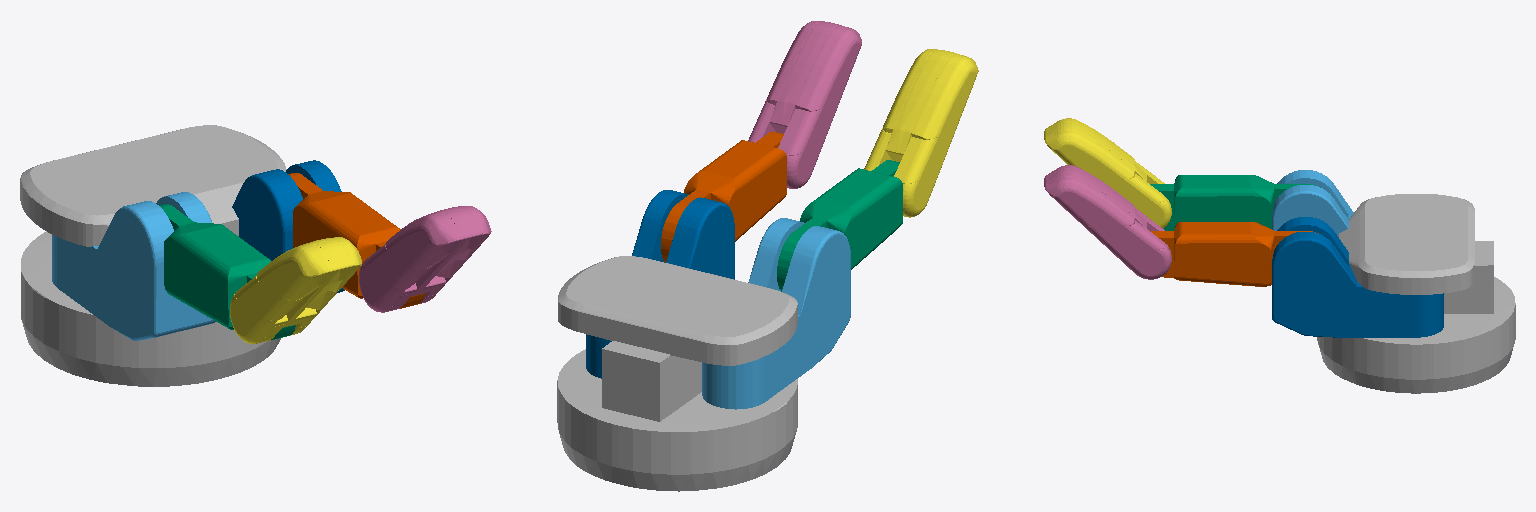
robot.urdf — bhand:
<?xml version="1.0" ?>
<!-- source: https://github.com/RobotnikAutomation/barrett_hand_common/tree/kinetic-devel/barrett_hand_description -->
<!-- =================================================================================== -->
<!-- |    This document was autogenerated by xacro from bh_alone.urdf.xacro            | -->
<!-- |    EDITING THIS FILE BY HAND IS NOT RECOMMENDED                                 | -->
<!-- =================================================================================== -->
<robot name="bhand">
    <!-- HAND WORLD_LINK (RED) -->
    <link name="bh_base_link">
        <inertial>
            <mass value="3.0"/>
            <origin xyz="0 0 0"/>
            <inertia ixx="1.0" ixy="0.0" ixz="0.0" iyy="1.0" iyz="0.0" izz="1.0"/>
        </inertial>
        <visual>
            <origin rpy="0 0 0" xyz="0 0 0"/>
            <geometry>
                <mesh filename="./meshes/palm_282.dae_vhacd.obj"/>
            </geometry>
            <material name="Grey">
                <color rgba="0.75 0.75 0.75 1.0"/>
            </material>
        </visual>
        <collision>
            <origin rpy="0 0 0 " xyz="0 0 0"/>
            <geometry>
                <mesh filename="./meshes/palm_282.dae_vhacd.obj"/>
            </geometry>
            <contact_coefficients kd="1.0" kp="1000.0" mu="1000"/>
        </collision>
    </link>
    
    <!-- finger 1 -->
    <!-- finger 11 link -->
    <link name="bh_finger_11_link">
        <inertial>
            <mass value="0.1"/>
            <origin rpy="0 0 0" xyz="-0.046 0 0"/>
            <inertia ixx="0.01" ixy="0" ixz="0" iyy="0.01" iyz="0" izz="0.01"/>
        </inertial>
        <visual>
            <origin rpy="0 0 0" xyz="0 0 0"/>
            <geometry>
                <mesh filename="./meshes/knuckle.dae_vhacd.obj"/>
            </geometry>
            <material name="Green"/>
        </visual>
        <collision>
            <origin rpy="0 0 0" xyz="0 0 0"/>
            <geometry>
                <mesh filename="./meshes/knuckle.dae_vhacd.obj"/>
            </geometry>
        </collision>
    </link>
    <!-- joint between BH_palm_link and BH_finger_11_link -->
    <joint name="bh_j11_joint" type="revolute">
        <parent link="bh_base_link"/>
        <child link="bh_finger_11_link"/>
        <origin rpy="0 0 1.5708" xyz="-0.025 0 0.0252"/>
        <axis xyz="0 0 -1"/>
        <limit effort="30.0" lower="0" upper="3.1416" velocity="2.0"/>
        <dynamics damping="100.0" friction="1.0"/>
    </joint>
    <transmission name="bh_j11_transmission">
        <type>transmission_interface/SimpleTransmission</type>
        <joint name="bh_j11_joint">
            <hardwareInterface>PositionJointInterface</hardwareInterface>
        </joint>
        <actuator name="bh_j11">
            <hardwareInterface>PositionJointInterface</hardwareInterface>
            <mechanicalReduction>1</mechanicalReduction>
            <motorTorqueConstant>1</motorTorqueConstant>
        </actuator>
    </transmission>
    <!-- finger 12 link -->
    <link name="bh_finger_12_link">
        <inertial>
            <mass value="0.1"/>
            <origin rpy="0 0 0" xyz="0 0 0"/>
            <inertia ixx="0.01" ixy="0" ixz="0" iyy="0.01" iyz="0" izz="0.01"/>
        </inertial>
        <visual>
            <origin rpy="0 0 0" xyz="0 0 0"/>
            <geometry>
                <mesh filename="./meshes/finger.dae_vhacd.obj"/>
            </geometry>
            <material name="Blue"/>
        </visual>
        <collision>
            <origin rpy="0 0 0" xyz="0 0 0"/>
            <geometry>
                <mesh filename="./meshes/finger.dae_vhacd.obj"/>
            </geometry>
            <contact_coefficients kd="1.0" kp="1000.0" mu="1000"/>
        </collision>
    </link>
    <!-- joint between BH_finger_11_link and BH_finger_12_link -->
    <joint name="bh_j12_joint" type="revolute">
        <parent link="bh_finger_11_link"/>
        <child link="bh_finger_12_link"/>
        <origin rpy="1.5708 0 0" xyz="-0.05 0 0.0339"/>
        <axis xyz="0 0 -1"/>
        <limit effort="30.0" lower="0.0" upper="2.44" velocity="2.0"/>
        <dynamics damping="100.0" friction="1.0"/>
    </joint>
    <transmission name="bh_j12_transmission">
        <type>transmission_interface/SimpleTransmission</type>
        <joint name="bh_j12_joint">
            <hardwareInterface>PositionJointInterface</hardwareInterface>
        </joint>
        <actuator name="bh_j12">
            <hardwareInterface>PositionJointInterface</hardwareInterface>
            <mechanicalReduction>1</mechanicalReduction>
            <motorTorqueConstant>1</motorTorqueConstant>
        </actuator>
    </transmission>
    <!-- finger 13 link -->
    <link name="bh_finger_13_link">
        <inertial>
            <mass value="0.1"/>
            <origin rpy="0 0 0" xyz="0 0 0"/>
            <inertia ixx="0.01" ixy="0" ixz="0" iyy="0.01" iyz="0" izz="0.01"/>
        </inertial>
        <visual>
            <origin rpy="0 0 0" xyz="0 0 0"/>
            <geometry>
                <mesh filename="./meshes/finger_tip.dae_vhacd.obj"/>
            </geometry>
            <material name="Blue"/>
        </visual>
        <collision>
            <origin rpy="0 0 0" xyz="0 0 0"/>
            <geometry>
                <mesh filename="./meshes/finger_tip.dae_vhacd.obj"/>
            </geometry>
            <contact_coefficients kd="1.0" kp="1000.0" mu="1000"/>
        </collision>
    </link>
    <!-- joint between BH_finger_12_link and BH_finger_13_link -->
    <joint name="bh_j13_joint" type="revolute">
        <parent link="bh_finger_12_link"/>
        <child link="bh_finger_13_link"/>
        <origin rpy="0 0 0" xyz="-0.069936 0.003 0"/>
        <axis xyz="0 0 -1"/>
        <mimic joint="bh_j12_joint" multiplier="0.344262295082"/>
        <limit effort="30.0" lower="0.0" upper="0.84" velocity="2.0"/>
        <dynamics damping="100.0" friction="1.0"/>
    </joint>
    <transmission name="bh_j13_transmission">
        <type>transmission_interface/SimpleTransmission</type>
        <joint name="bh_j13_joint">
            <hardwareInterface>PositionJointInterface</hardwareInterface>
        </joint>
        <actuator name="bh_j13">
            <hardwareInterface>PositionJointInterface</hardwareInterface>
            <mechanicalReduction>1</mechanicalReduction>
            <motorTorqueConstant>1</motorTorqueConstant>
        </actuator>
    </transmission>
    <!-- finger 2 -->
    <!-- finger 21 link -->
    <link name="bh_finger_21_link">
        <inertial>
            <mass value="0.1"/>
            <origin rpy="0 0 0" xyz="-0.046 0 0"/>
            <inertia ixx="0.01" ixy="0" ixz="0" iyy="0.01" iyz="0" izz="0.01"/>
        </inertial>
        <visual>
            <origin rpy="0 0 0" xyz="0 0 0"/>
            <geometry>
                <mesh filename="./meshes/knuckle.dae_vhacd.obj"/>
            </geometry>
            <material name="Green"/>
        </visual>
        <collision>
            <origin rpy="0 0 0" xyz="0 0 0"/>
            <geometry>
                <mesh filename="./meshes/knuckle.dae_vhacd.obj"/>
            </geometry>
        </collision>
    </link>
    <!-- joint between BH_palm_link and BH_finger_21_link -->
    <joint name="bh_j21_joint" type="revolute">
        <parent link="bh_base_link"/>
        <child link="bh_finger_21_link"/>
        <origin rpy="0 0 1.5708" xyz="0.025 0 0.0252"/>
        <axis xyz="0 0 1"/>
        <mimic joint="bh_j11_joint" multiplier="1"/>
        <limit effort="30.0" lower="0" upper="3.1416" velocity="2.0"/>
        <dynamics damping="100.0" friction="1.0"/>
    </joint>
    <transmission name="bh_j21_transmission">
        <type>transmission_interface/SimpleTransmission</type>
        <joint name="bh_j21_joint">
            <hardwareInterface>PositionJointInterface</hardwareInterface>
        </joint>
        <actuator name="bh_j21">
            <hardwareInterface>PositionJointInterface</hardwareInterface>
            <mechanicalReduction>1</mechanicalReduction>
            <motorTorqueConstant>1</motorTorqueConstant>
        </actuator>
    </transmission>
    <!-- finger 12 link -->
    <link name="bh_finger_22_link">
        <inertial>
            <mass value="0.1"/>
            <origin rpy="0 0 0" xyz="0 0 0"/>
            <inertia ixx="0.01" ixy="0" ixz="0" iyy="0.01" iyz="0" izz="0.01"/>
        </inertial>
        <visual>
            <origin rpy="0 0 0" xyz="0 0 0"/>
            <geometry>
                <mesh filename="./meshes/finger.dae_vhacd.obj"/>
            </geometry>
            <material name="Blue"/>
        </visual>
        <collision>
            <origin rpy="0 0 0" xyz="0 0 0"/>
            <geometry>
                <mesh filename="./meshes/finger.dae_vhacd.obj"/>
            </geometry>
            <contact_coefficients kd="1.0" kp="1000.0" mu="1000"/>
        </collision>
    </link>
    <!-- joint between BH_finger_21_link and BH_finger_22_link -->
    <joint name="bh_j22_joint" type="revolute">
        <parent link="bh_finger_21_link"/>
        <child link="bh_finger_22_link"/>
        <origin rpy="1.5708 -8.8281E-17 0" xyz="-0.05 0 0.0339"/>
        <axis xyz="0 0 -1"/>
        <limit effort="30.0" lower="0.0" upper="2.44" velocity="2.0"/>
        <dynamics damping="100.0" friction="1.0"/>
    </joint>
    <transmission name="bh_j22_transmission">
        <type>transmission_interface/SimpleTransmission</type>
        <joint name="bh_j22_joint">
            <hardwareInterface>PositionJointInterface</hardwareInterface>
        </joint>
        <actuator name="bh_j22">
            <hardwareInterface>PositionJointInterface</hardwareInterface>
            <mechanicalReduction>1</mechanicalReduction>
            <motorTorqueConstant>1</motorTorqueConstant>
        </actuator>
    </transmission>
    <!-- finger 23 link -->
    <link name="bh_finger_23_link">
        <inertial>
            <mass value="0.1"/>
            <origin rpy="0 0 0" xyz="0 0 0"/>
            <inertia ixx="0.01" ixy="0" ixz="0" iyy="0.01" iyz="0" izz="0.01"/>
        </inertial>
        <visual>
            <origin rpy="0 0 0" xyz="0 0 0"/>
            <geometry>
                <mesh filename="./meshes/finger_tip.dae_vhacd.obj"/>
            </geometry>
            <material name="Blue"/>
        </visual>
        <collision>
            <origin rpy="0 0 0" xyz="0 0 0"/>
            <geometry>
                <mesh filename="./meshes/finger_tip.dae_vhacd.obj"/>
            </geometry>
            <contact_coefficients kd="1.0" kp="1000.0" mu="1000"/>
        </collision>
    </link>
    <!-- joint between BH_finger_22_link and BH_finger_23_link -->
    <joint name="bh_j23_joint" type="revolute">
        <parent link="bh_finger_22_link"/>
        <child link="bh_finger_23_link"/>
        <origin rpy="0 0 0" xyz="-0.069936 0.003 0"/>
        <axis xyz="0 0 -1"/>
        <mimic joint="bh_j22_joint" multiplier="0.344262295082"/>
        <limit effort="30.0" lower="0.0" upper="0.84" velocity="2.0"/>
        <dynamics damping="100.0" friction="1.0"/>
    </joint>
    <transmission name="bh_j23_transmission">
        <type>transmission_interface/SimpleTransmission</type>
        <joint name="bh_j23_joint">
            <hardwareInterface>PositionJointInterface</hardwareInterface>
        </joint>
        <actuator name="bh_j23">
            <hardwareInterface>PositionJointInterface</hardwareInterface>
            <mechanicalReduction>1</mechanicalReduction>
            <motorTorqueConstant>1</motorTorqueConstant>
        </actuator>
    </transmission>
</robot>

--- What the picture shows (computed from the rendered views, not written in the file) ---
3 views of the same robot in one strip: view 1: azimuth 30°, elevation 25°; view 2: azimuth 150°, elevation 25°; view 3: azimuth 270°, elevation 25° (orthographic).
Model bhand with 7 links and 6 joints (6 revolute), rooted at bh_base_link, posed every joint at zero.
Links seen in each view (by area): view 1: bh_base_link, bh_finger_11_link, bh_finger_13_link, bh_finger_23_link, bh_finger_12_link, bh_finger_22_link, bh_finger_21_link; view 2: bh_base_link, bh_finger_11_link, bh_finger_13_link, bh_finger_23_link, bh_finger_12_link, bh_finger_22_link, bh_finger_21_link; view 3: bh_base_link, bh_finger_21_link, bh_finger_23_link, bh_finger_22_link, bh_finger_13_link, bh_finger_12_link, bh_finger_11_link.
Boxes of the visible links, box(x1,y1,x2,y2) form: bh_base_link: box(20, 125, 286, 386); bh_finger_11_link: box(52, 192, 215, 340); bh_finger_13_link: box(230, 237, 361, 343); bh_finger_23_link: box(359, 206, 491, 312); bh_finger_12_link: box(160, 204, 295, 339); bh_finger_22_link: box(288, 173, 424, 308); bh_finger_21_link: box(232, 160, 344, 292); bh_base_link: box(557, 256, 797, 491); bh_finger_11_link: box(702, 218, 850, 409); bh_finger_13_link: box(864, 49, 978, 217); bh_finger_23_link: box(748, 21, 861, 188); bh_finger_12_link: box(777, 160, 902, 291); bh_finger_22_link: box(661, 131, 786, 262); bh_finger_21_link: box(586, 190, 734, 378); bh_base_link: box(1317, 194, 1515, 393); bh_finger_21_link: box(1272, 217, 1443, 337); bh_finger_23_link: box(1044, 165, 1171, 279); bh_finger_22_link: box(1150, 222, 1318, 286); bh_finger_13_link: box(1044, 118, 1171, 228); bh_finger_12_link: box(1150, 175, 1320, 230); bh_finger_11_link: box(1272, 170, 1353, 235).
Size in the robot's own frame: 0.0893 by 0.2124 by 0.1026 metres.
7 mesh visuals loaded from 4 distinct referenced files (4 OBJ).